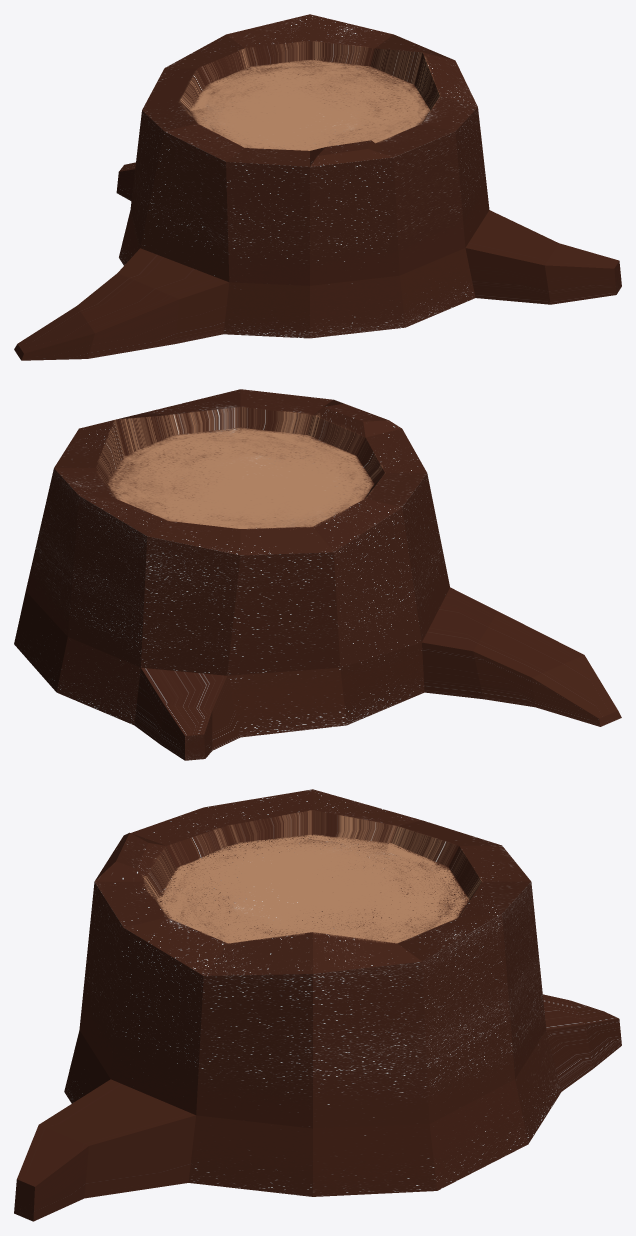
The model's file is TreeStump.fbx.
3 renders of one model, top to bottom at view 1: azimuth 30°, elevation 25°; view 2: azimuth 150°, elevation 25°; view 3: azimuth 270°, elevation 25°, orthographic. The views are drawn at different scales.
Parts seen in each view (by area): view 1: Cylinder; view 2: Cylinder; view 3: Cylinder.
Part boxes in pixels (x1,y1,x2,y2): Cylinder: [14, 14, 621, 360]; Cylinder: [14, 389, 621, 760]; Cylinder: [14, 789, 621, 1221].
Size of the model in its own units: 594 by 200 by 462.
